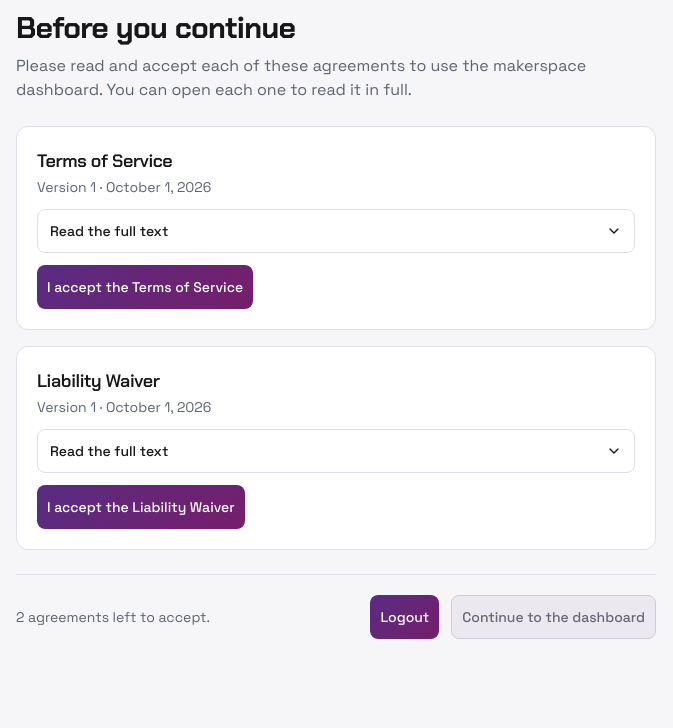
Test case: AgreementsGate › lets each agreement be read in full
Click the 2nd button "Read the full text". click: (109, 451)
box: [37, 429, 635, 473]
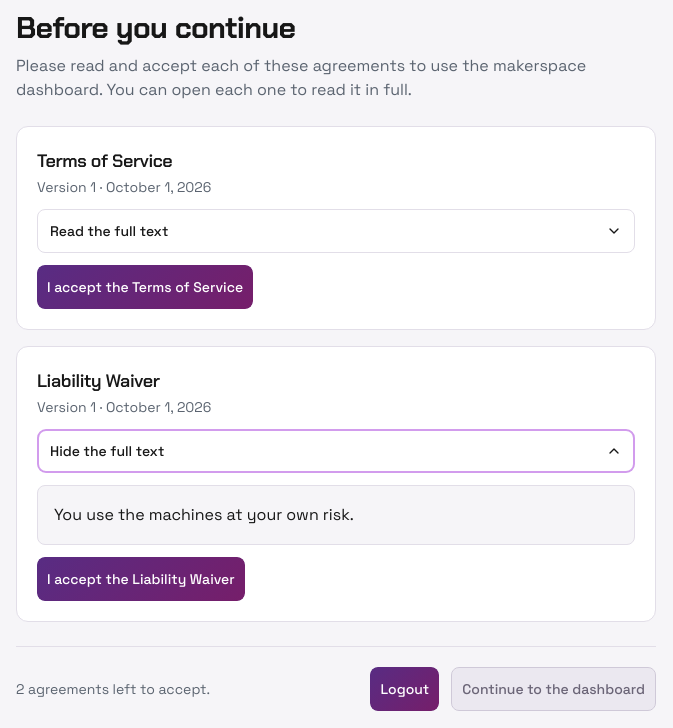
Expected: the button named "read the full text" is expanded, [37, 429, 635, 473]
Expected: the text "You use the machines at your own risk." is shown, [54, 504, 354, 525]
